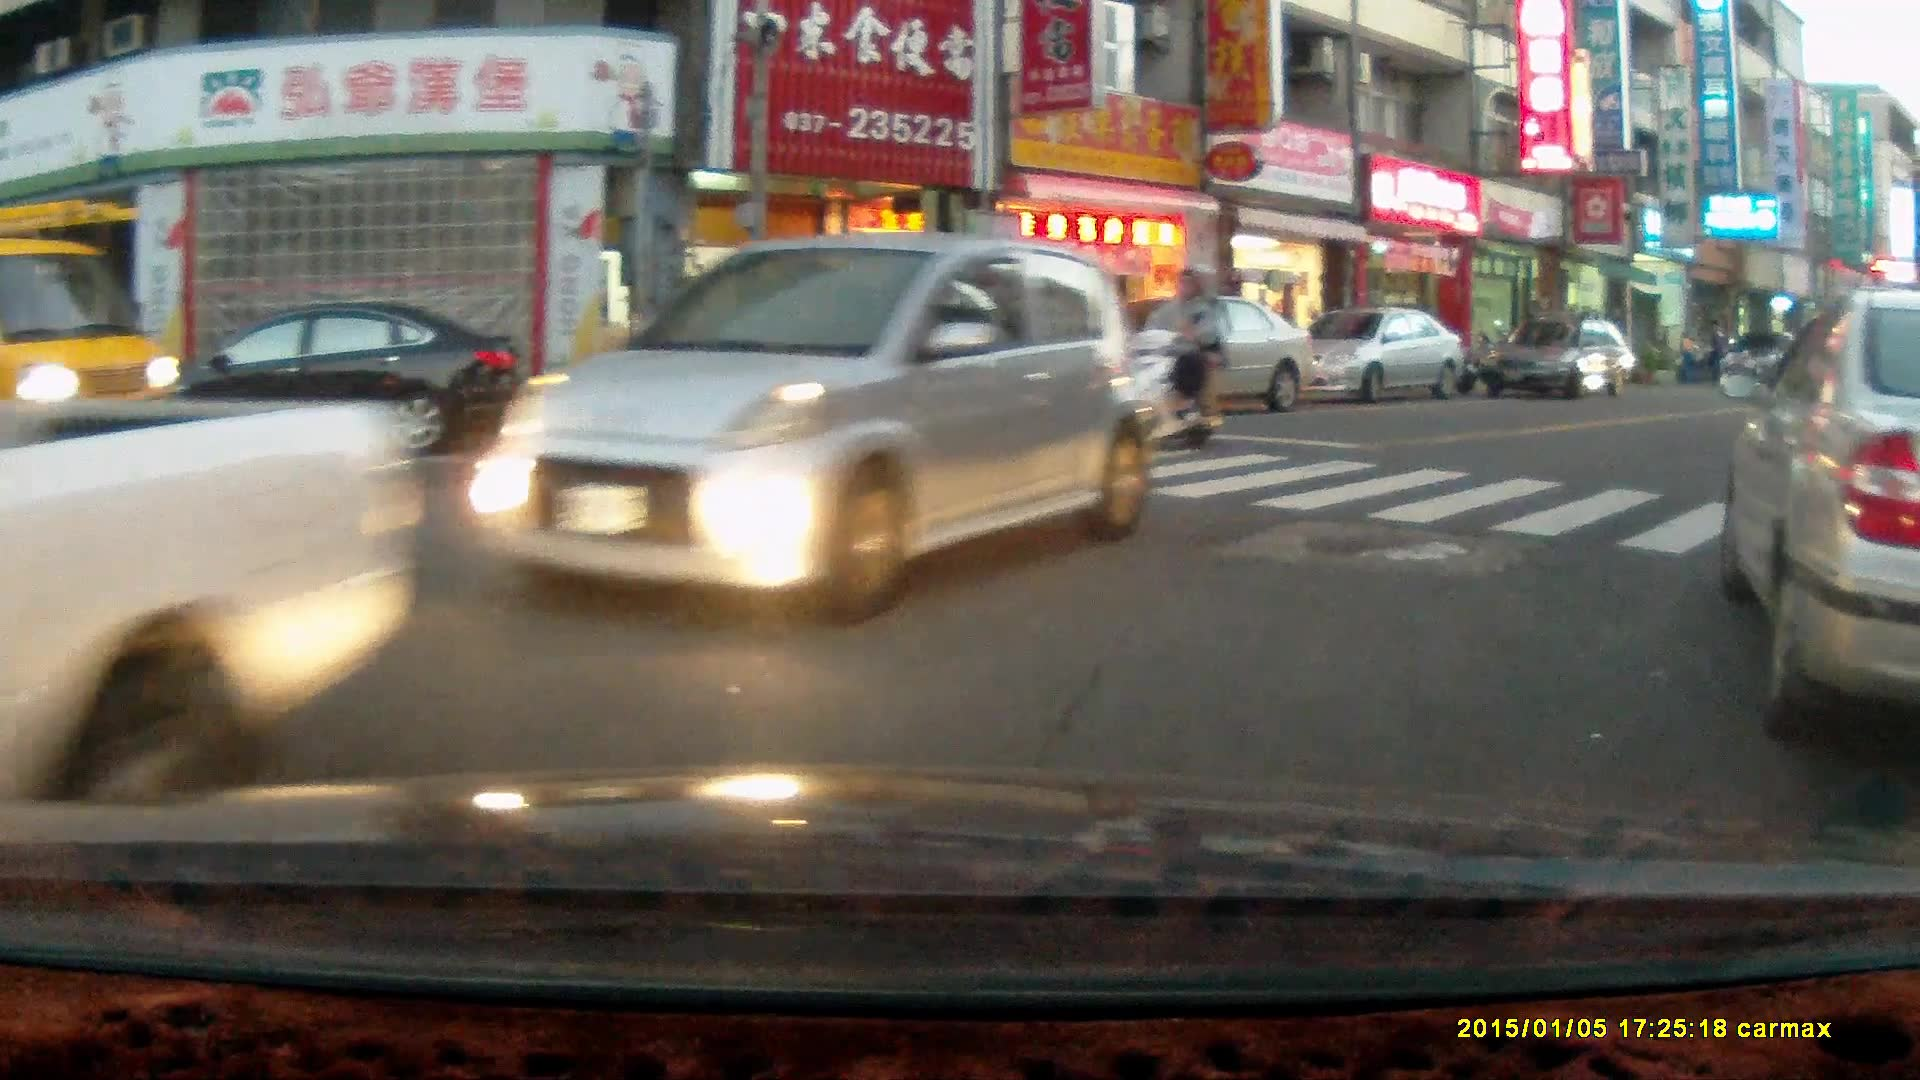rider: (1094, 261, 1227, 451)
vehicle: (465, 236, 1152, 622), (1, 393, 423, 792), (1718, 287, 1920, 761), (179, 294, 521, 452), (1129, 293, 1314, 415), (1288, 305, 1466, 399), (1478, 317, 1643, 402)
